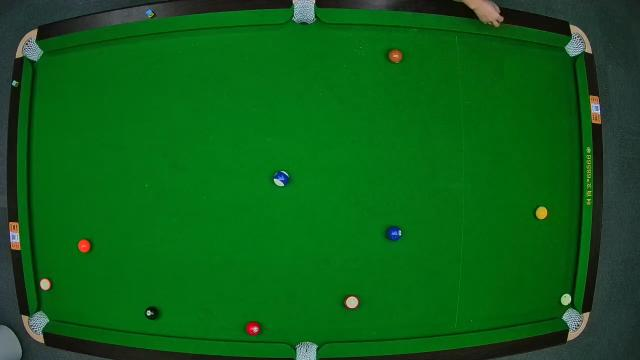bag1: (22, 39, 40, 59)
bag2: (291, 0, 317, 26)
bag3: (564, 34, 588, 57)
bag4: (28, 310, 48, 332)
bag5: (294, 340, 318, 360)
bag6: (563, 310, 583, 330)
ball0: (560, 293, 572, 307)
ball1: (536, 206, 548, 220)
ball10: (272, 170, 290, 188)
ball11: (344, 294, 360, 312)
ball12: (38, 277, 52, 291)
ball2: (387, 226, 403, 242)
ball3: (247, 320, 260, 336)
ball5: (78, 238, 92, 254)
ball7: (389, 48, 403, 64)
ball8: (144, 307, 160, 321)
